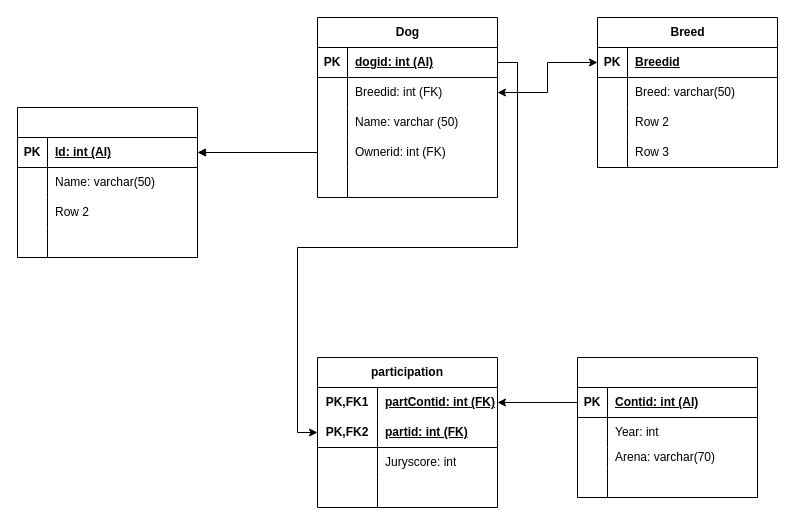
Some shapes in this 795 by 525 pixel diagram are drawn without their labels. Here are the shapes that lost their labels. From the top down, the box of each, then its label:
(16, 106, 198, 258): Exibitor
(576, 356, 758, 498): Contest
